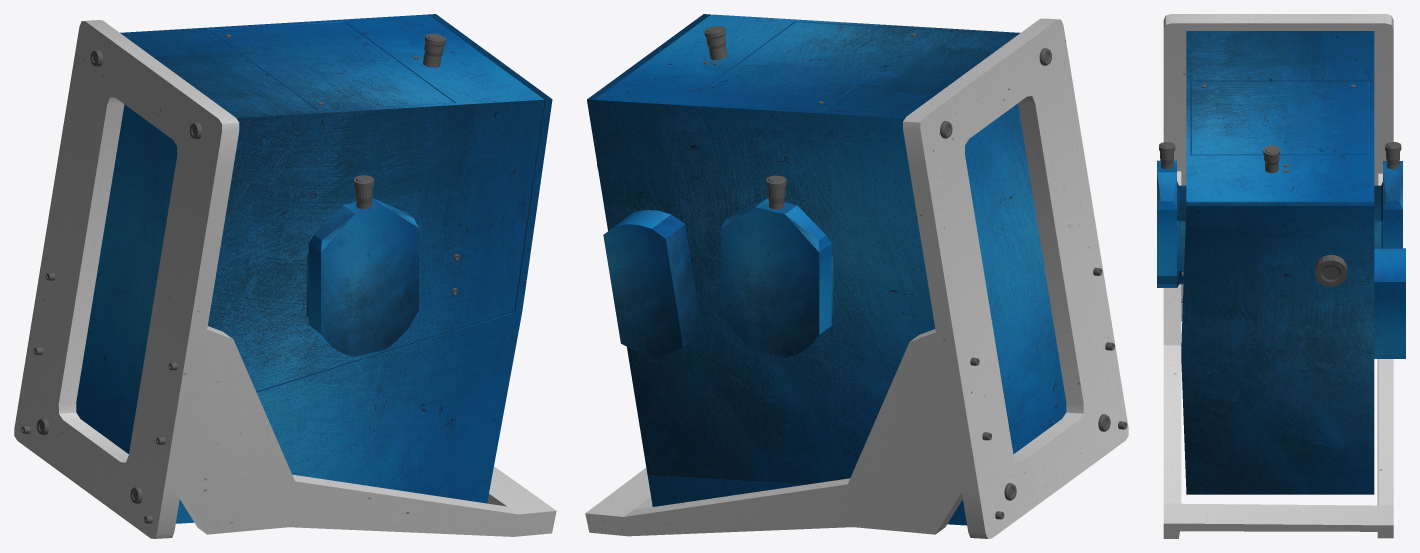
The model's file is Monohrom_3.glb.
The picture shows the model from 3 angles, left to right: view 1: azimuth 30°, elevation 25°; view 2: azimuth 150°, elevation 25°; view 3: azimuth 270°, elevation 25°; orthographic projection. The views are drawn at different scales.
Parts seen in each view (by area): view 1: Box020.002, Box027.002, Box021.002, Cylinder163.002; view 2: Box020.002, Box027.002, Box025.002, Box023.002, Cylinder163.002; view 3: Box020.002, Box027.002, Box023.002, Box021.002, Box025.002, Cylinder168.002, Cylinder163.002, Cylinder169.002, Cylinder184.002.
Part boxes in pixels (x1=…): Box020.002: x1=76, y1=14, x2=552, y2=523; Box027.002: x1=14, y1=20, x2=556, y2=538; Box021.002: x1=306, y1=198, x2=418, y2=357; Cylinder163.002: x1=423, y1=33, x2=445, y2=67; Box020.002: x1=587, y1=14, x2=1066, y2=525; Box027.002: x1=585, y1=18, x2=1128, y2=538; Box025.002: x1=721, y1=198, x2=833, y2=357; Box023.002: x1=603, y1=210, x2=702, y2=355; Cylinder163.002: x1=704, y1=26, x2=727, y2=59; Box020.002: x1=1181, y1=31, x2=1374, y2=494; Box027.002: x1=1163, y1=14, x2=1393, y2=538; Box023.002: x1=1374, y1=248, x2=1405, y2=358; Box021.002: x1=1157, y1=160, x2=1186, y2=287; Box025.002: x1=1374, y1=161, x2=1402, y2=248; Cylinder168.002: x1=1315, y1=255, x2=1347, y2=286; Cylinder163.002: x1=1263, y1=145, x2=1279, y2=173; Cylinder169.002: x1=1159, y1=142, x2=1175, y2=169; Cylinder184.002: x1=1385, y1=142, x2=1401, y2=169.
Bounding box in the file's own units: 16.79 × 18.6 × 10.6.
3 materials, 2 textured.
